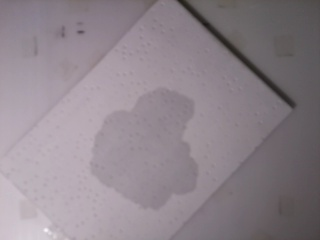Water_detected: (105, 105, 187, 190)
